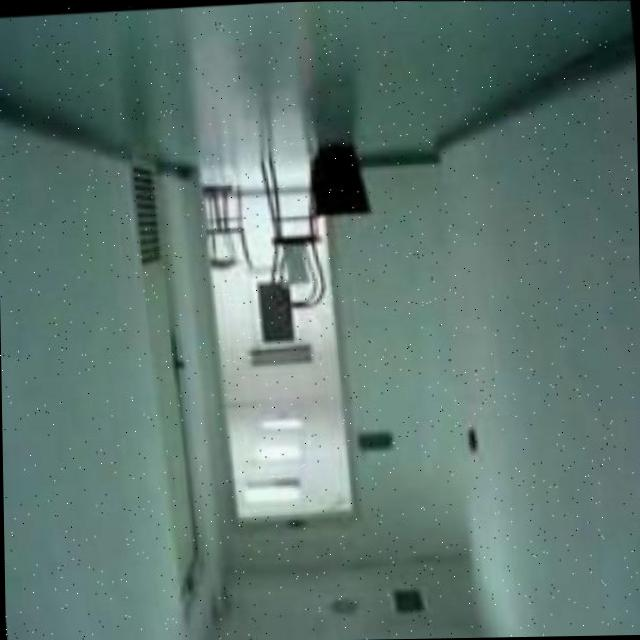fire: (303, 211, 341, 242)
